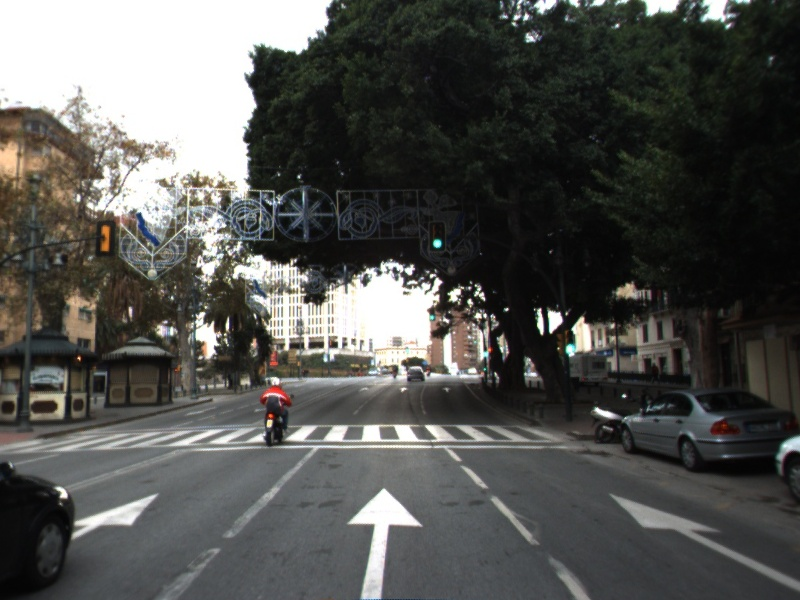STRAIGHT: (602, 487, 800, 591), (342, 484, 428, 600), (69, 489, 165, 541)
